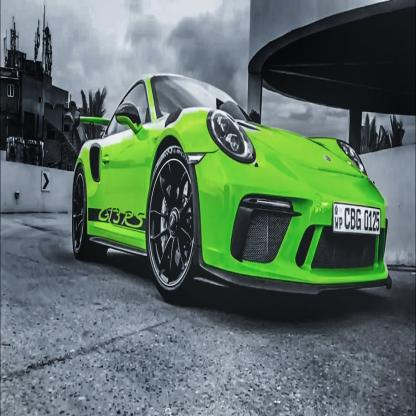car front: (67, 69, 396, 310)
number plate: (333, 205, 380, 232)
